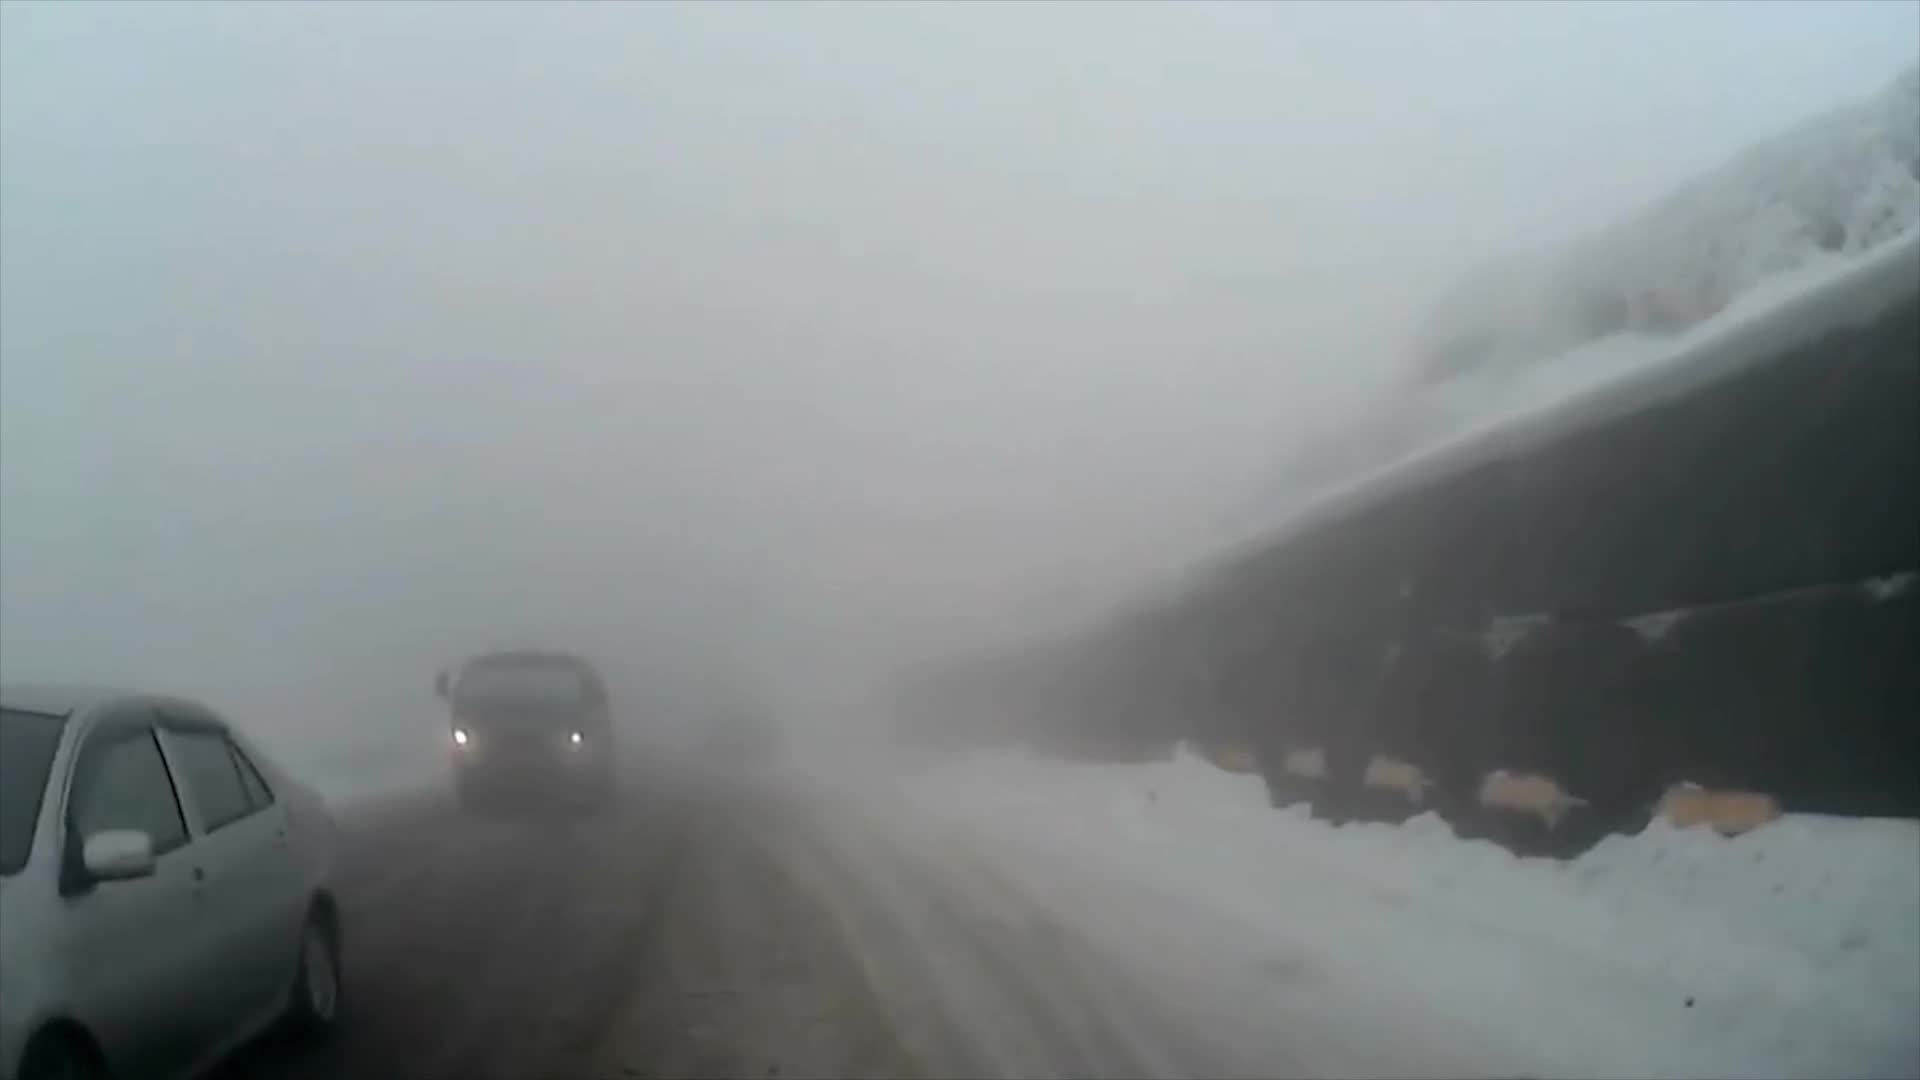vehicle: (0, 679, 344, 1080), (429, 642, 618, 808)
